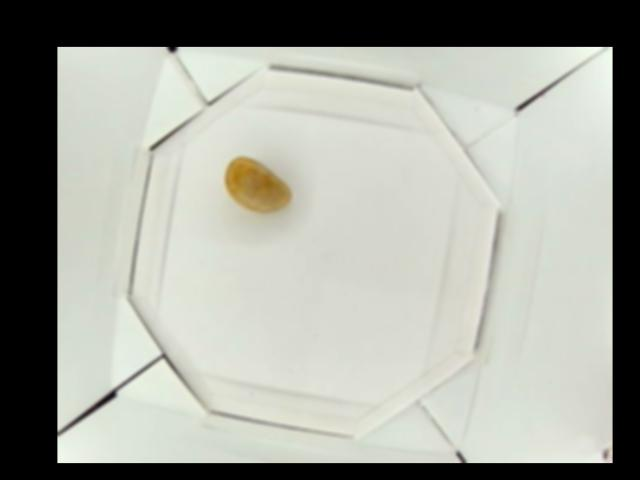Pebble: (223, 156, 292, 212)
